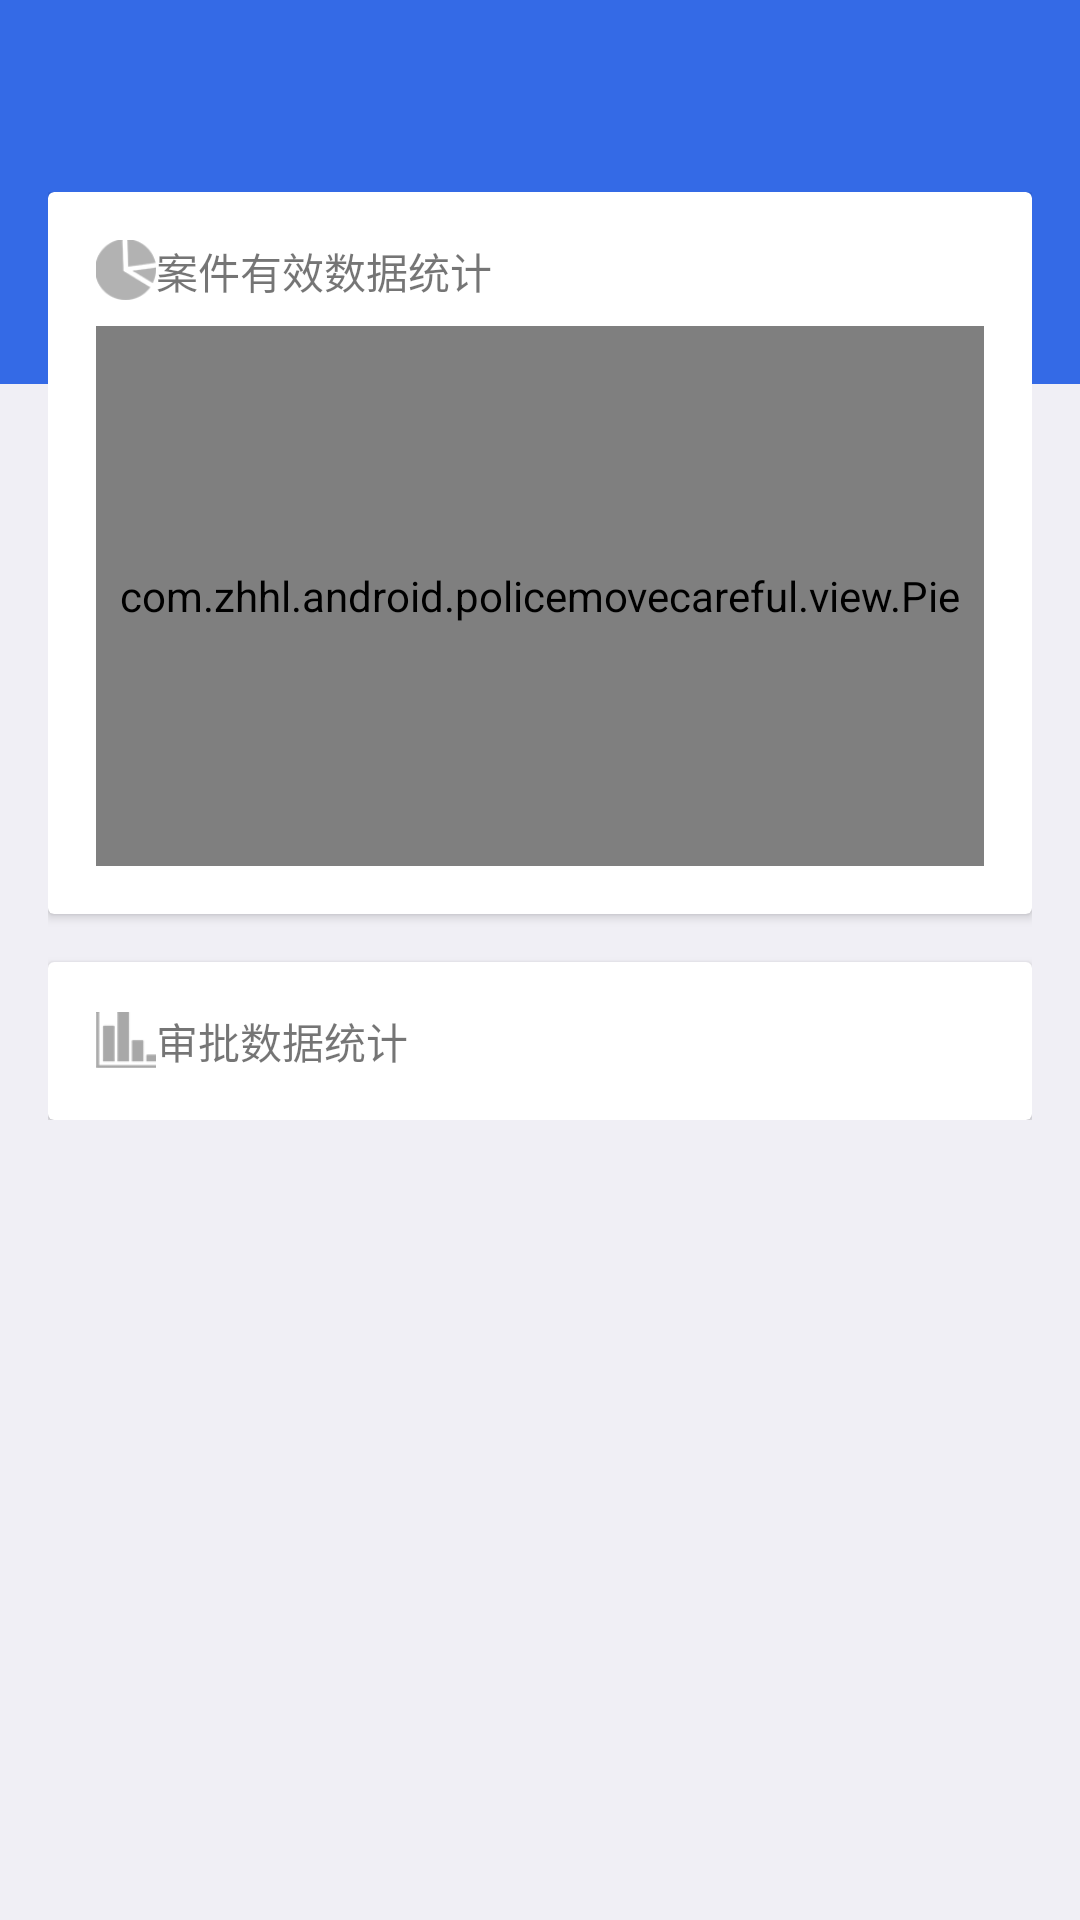

Icons on this 1080×1920 Android screen, each with the point to tap as point (x, y):
case horizontial: point (126, 1040)
case pie: point (126, 270)
